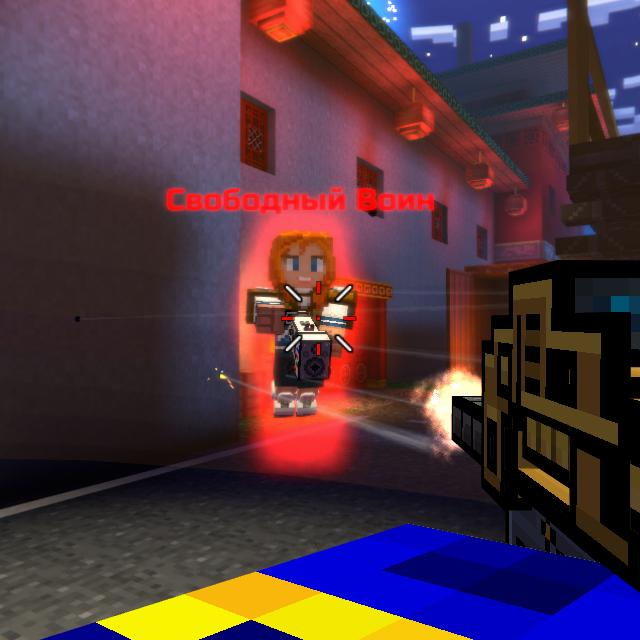Enemy: (244, 235, 357, 420)
